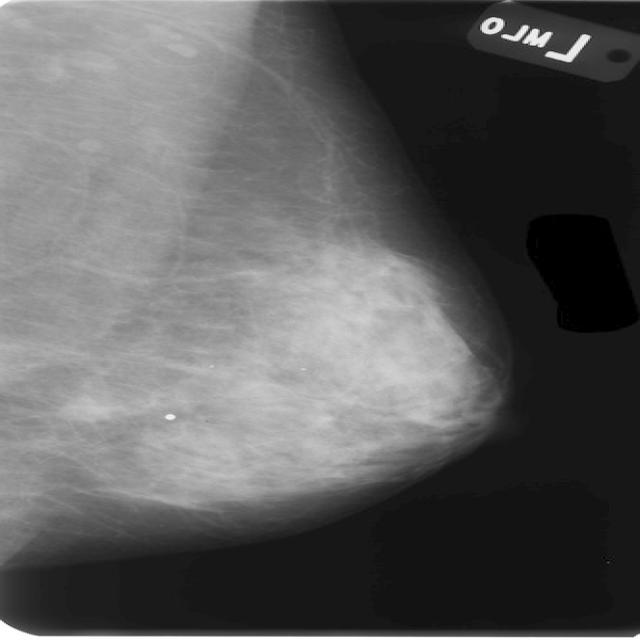tumour: (56, 396, 114, 421)
